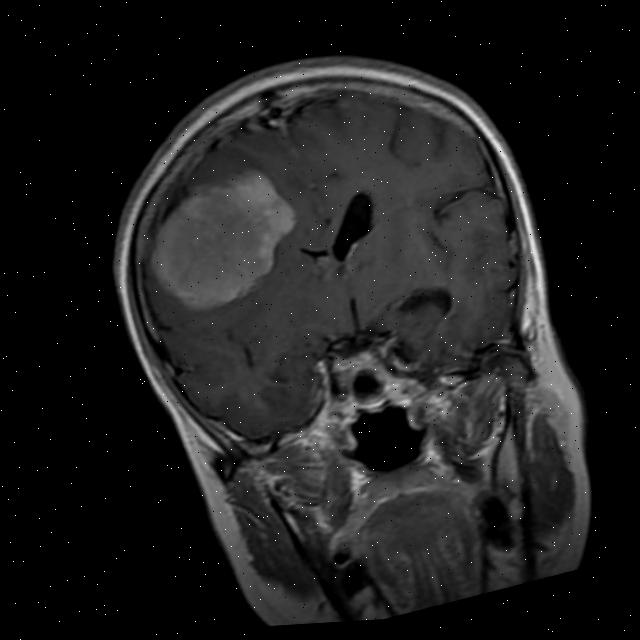Meningioma: (130, 155, 317, 322)
